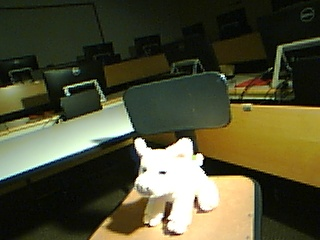piggy: (131, 136, 220, 236)
